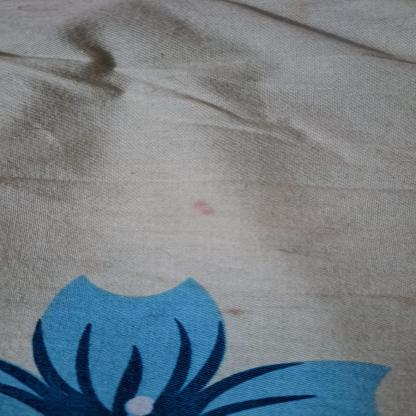spot: (212, 306, 264, 324), (190, 199, 222, 220)
